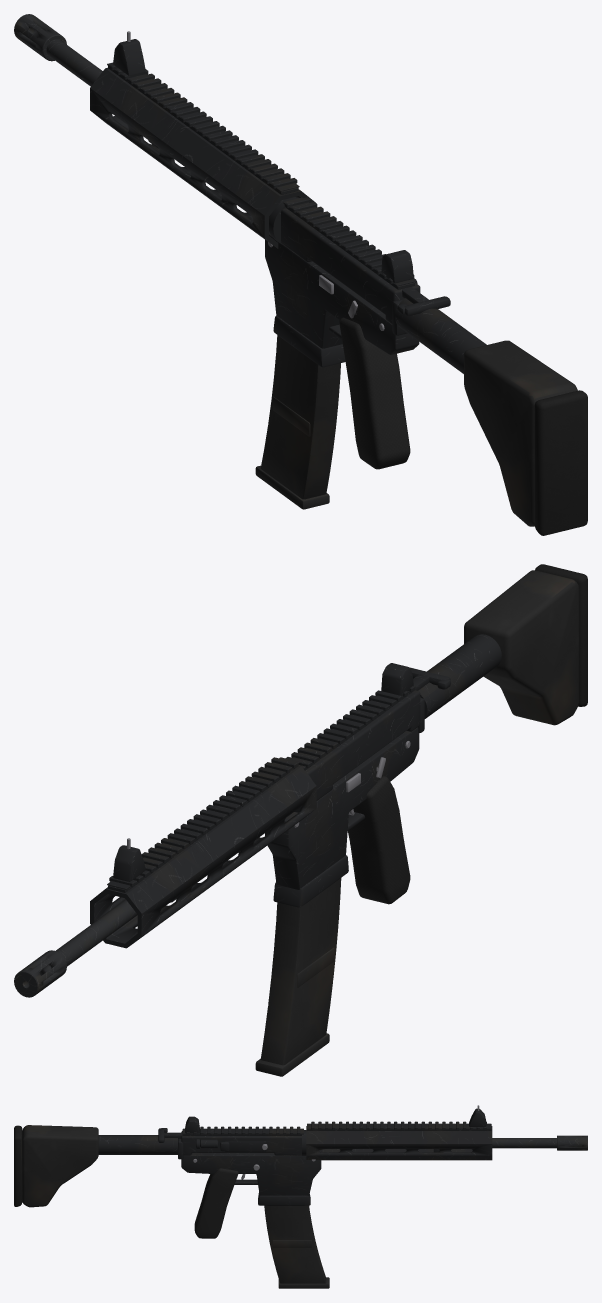
3 views of the same model, one above another, from view 1: azimuth 30°, elevation 25°; view 2: azimuth 150°, elevation 25°; view 3: azimuth 270°, elevation 25° (orthographic). The views are drawn at different scales.
Parts seen in each view (by area): view 1: M4_Body, M4_Magazine, M4_ChargingHandle; view 2: M4_Body, M4_Magazine; view 3: M4_Body, M4_Magazine, M4_DustCover.
Part boxes in pixels (x1,y1,x2,y2): M4_Body: (14, 14, 587, 535); M4_Magazine: (255, 335, 340, 509); M4_ChargingHandle: (397, 287, 450, 315); M4_Body: (14, 564, 587, 997); M4_Magazine: (255, 878, 341, 1076); M4_Body: (14, 1105, 587, 1238); M4_Magazine: (264, 1205, 329, 1288); M4_DustCover: (225, 1141, 266, 1151).
Bounding box in the file's own units: 0.0462 × 0.288 × 0.833.
Materials: 8 (7 with a texture image).
